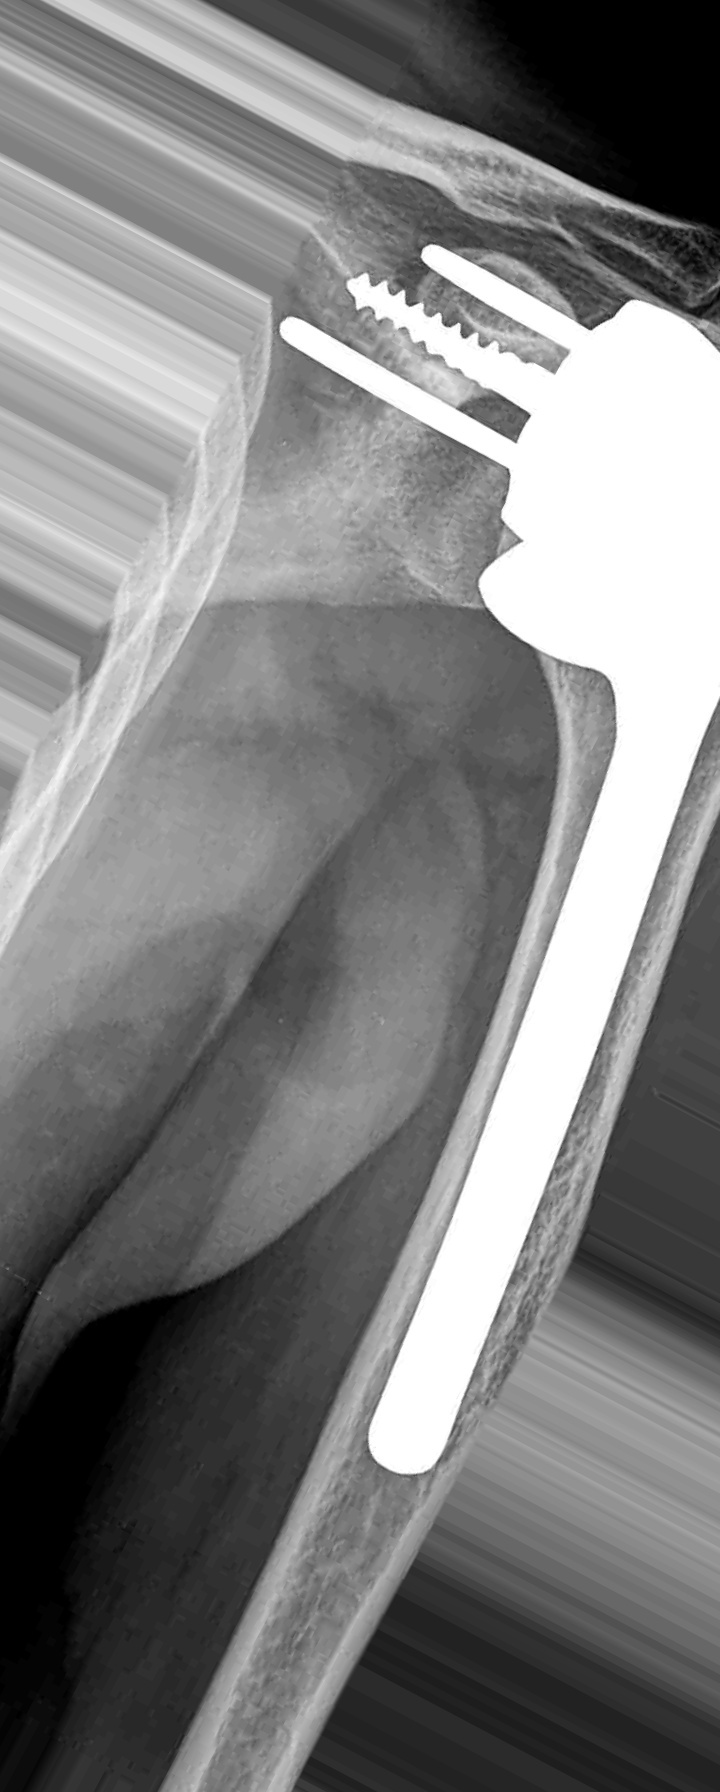Shoulder-Reverse-DJO: (207, 198, 720, 1475)
